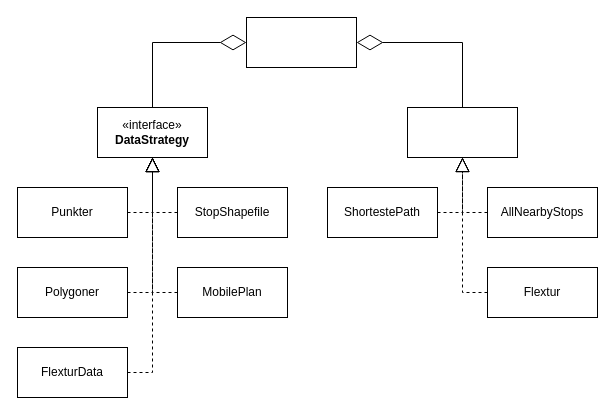
This 615x415 diagram has some shape labels left out. Each missing label, with the centre of its shape:
"PathAlgorithm" goes at point (301, 42).
"«interface» TaskStrategy" goes at point (462, 132).
